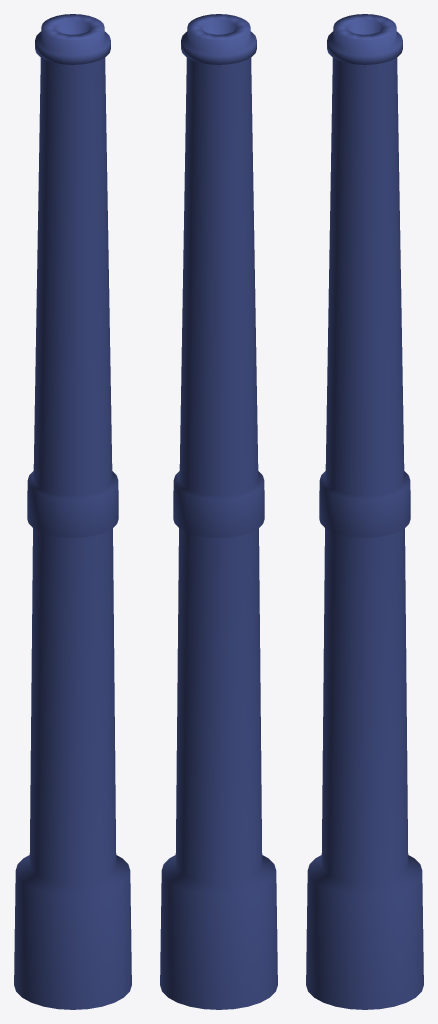
File: Tube_ShadowCaster.fbx
3 renders of one model, left to right at view 1: azimuth 90°, elevation 25°; view 2: azimuth 150°, elevation 25°; view 3: azimuth 270°, elevation 25°, orthographic.
Visible parts, largest first — view 1: Tube_ShadowCaster; view 2: Tube_ShadowCaster; view 3: Tube_ShadowCaster.
Boxes of the visible parts, x1,y1,x2,y2 form: Tube_ShadowCaster: (14,14,131,1009); Tube_ShadowCaster: (160,14,277,1009); Tube_ShadowCaster: (306,14,423,1009).
Bounding box in the file's own units: 441 × 3949 × 441.
